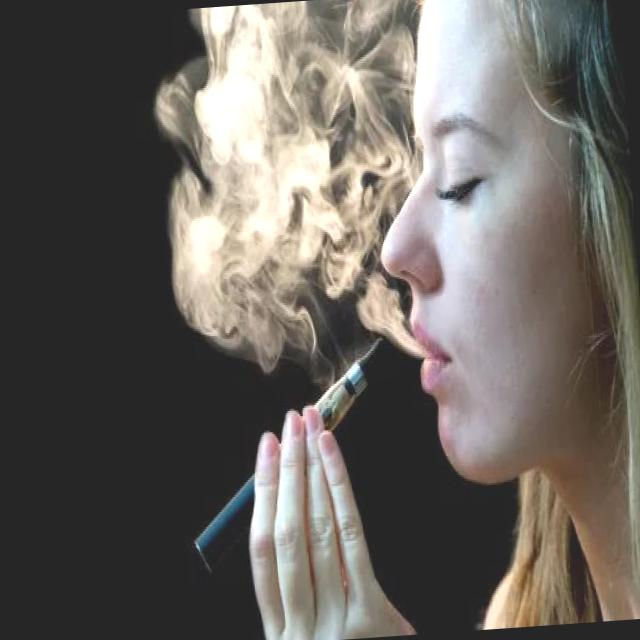cigarette: (180, 336, 402, 578)
